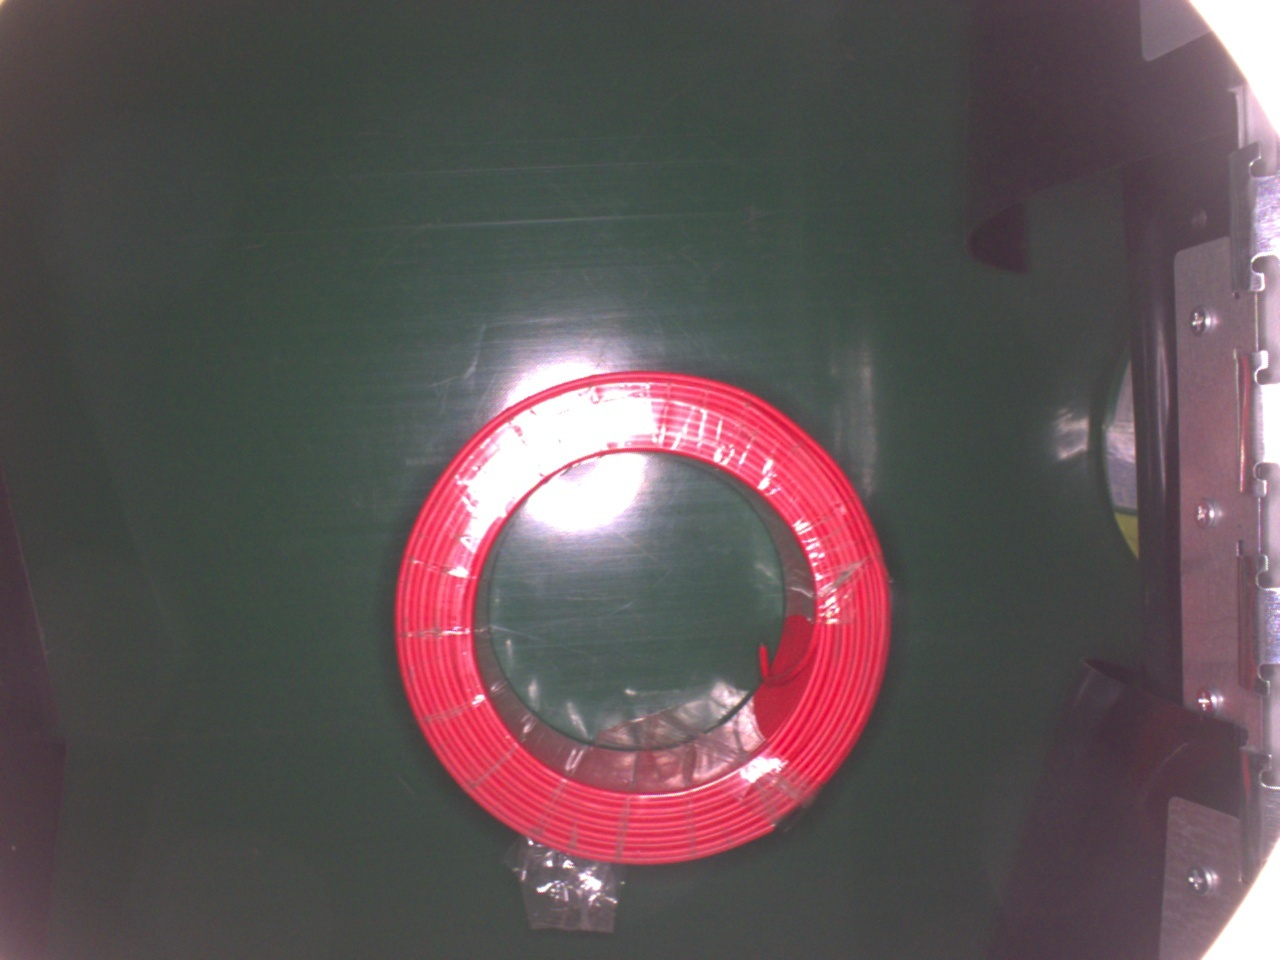red: (381, 369, 886, 868)
